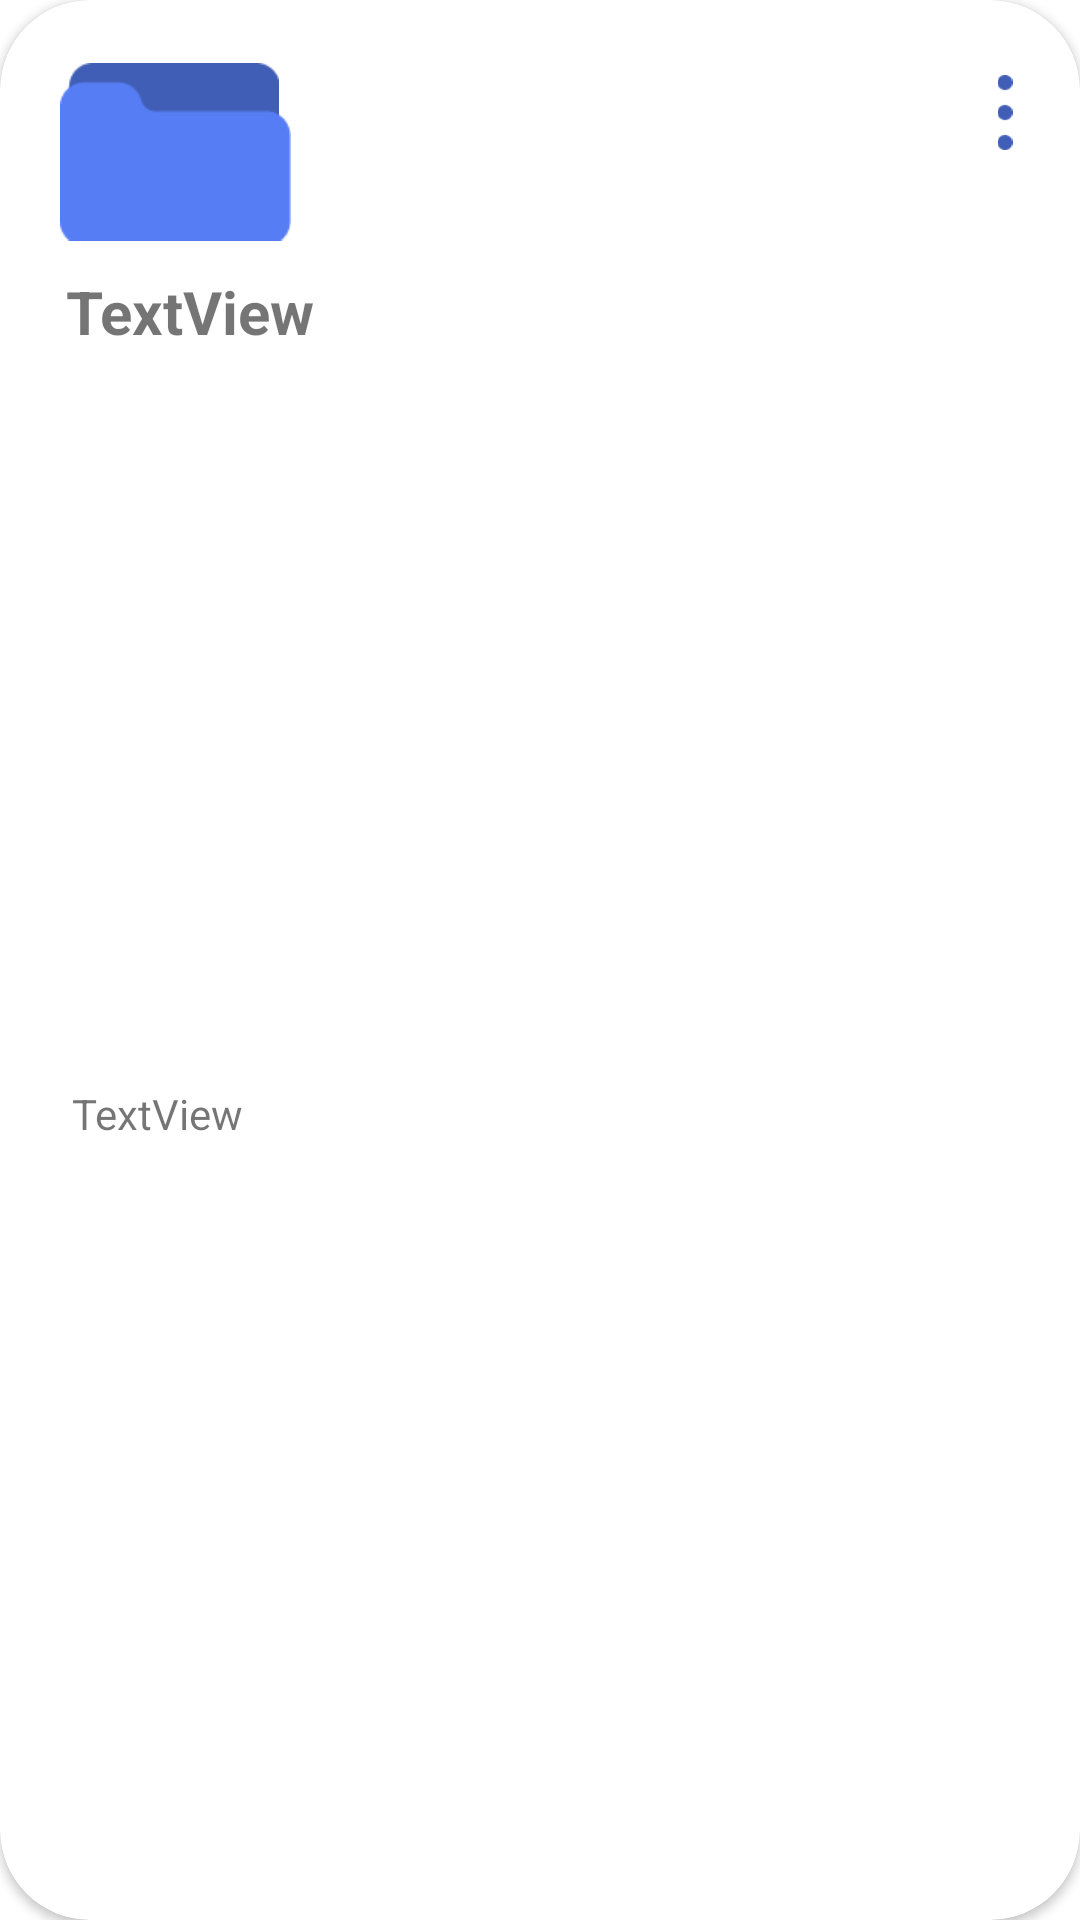

Where icons sit on this 1080 x 1920 app screen, as detection(x1, y1, x2, y2):
options: detection(998, 75, 1013, 150)
